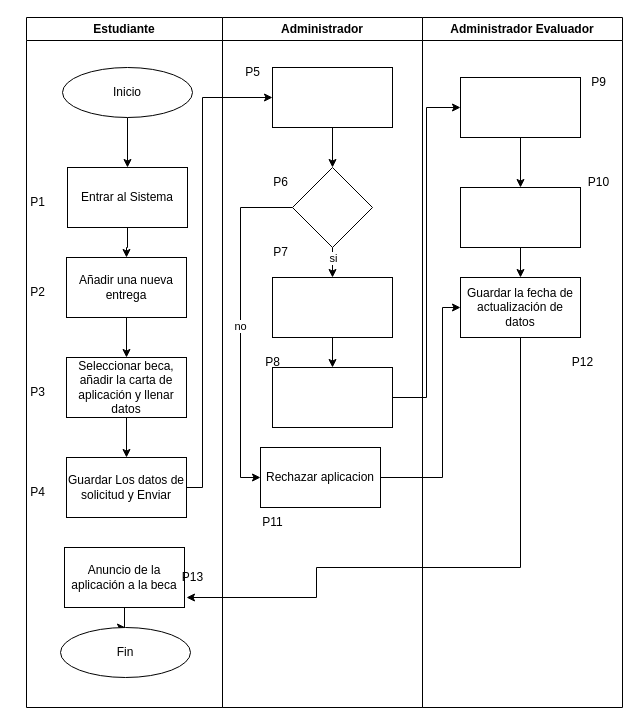
The diagram is 640 pixels wide and 725 high, and some of its shapes have lost their labels. Each missing label, with the centre of its shape:
"Aprobado?" belongs at [332,207].
"Aprobar Aplicaicon" belongs at [520,217].
"Dar evaluacion" belongs at [520,107].
"Guardar Datos y Enviar" belongs at [332,397].
"Seleccionar el año y semestre de comienzo y de fin de carrera" belongs at [332,307].
"Verificar Documentos" belongs at [332,97].
